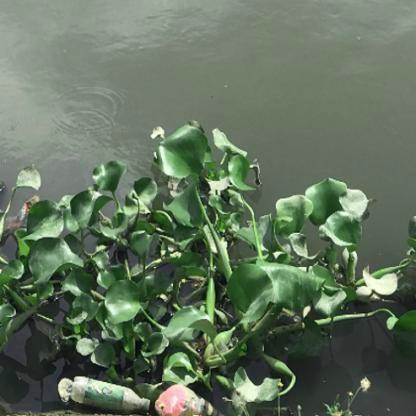Plastic: (49, 374, 159, 412), (150, 379, 220, 415)
